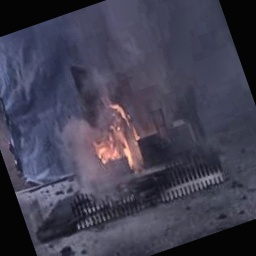fire: (78, 92, 154, 184)
